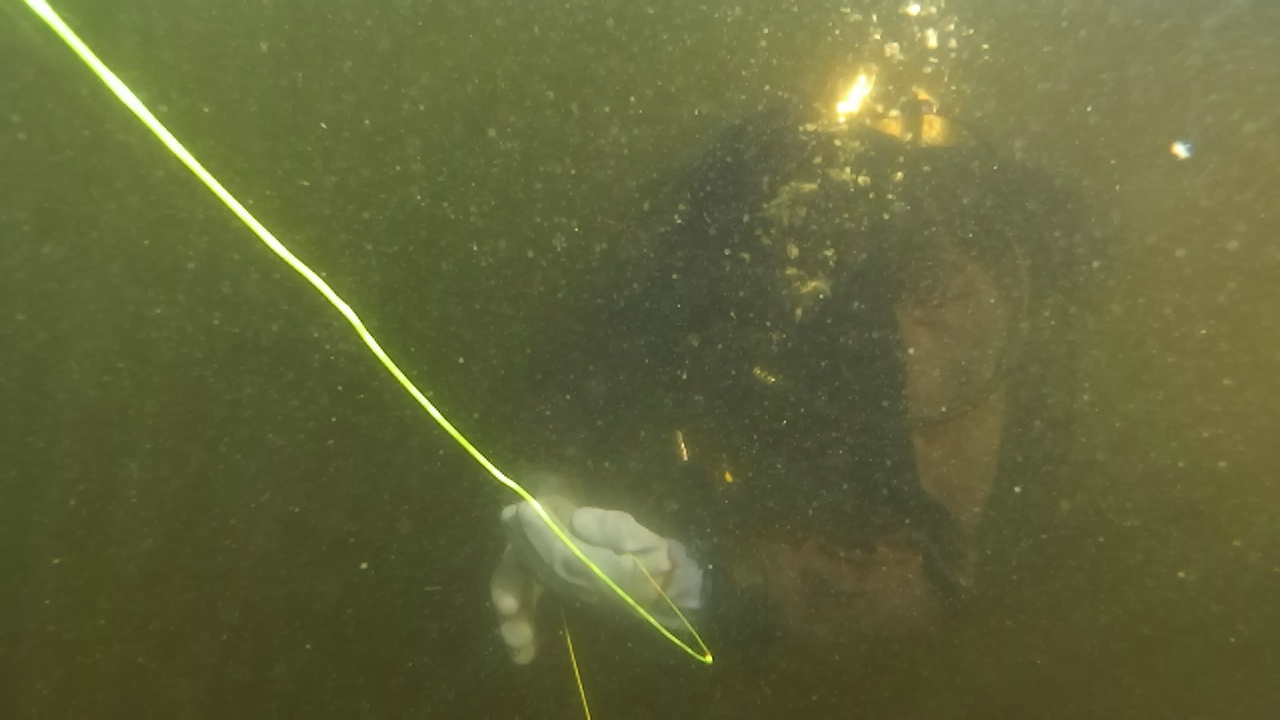Diver: (448, 82, 1134, 680)
Hand: (482, 480, 720, 626), (472, 472, 604, 676)
